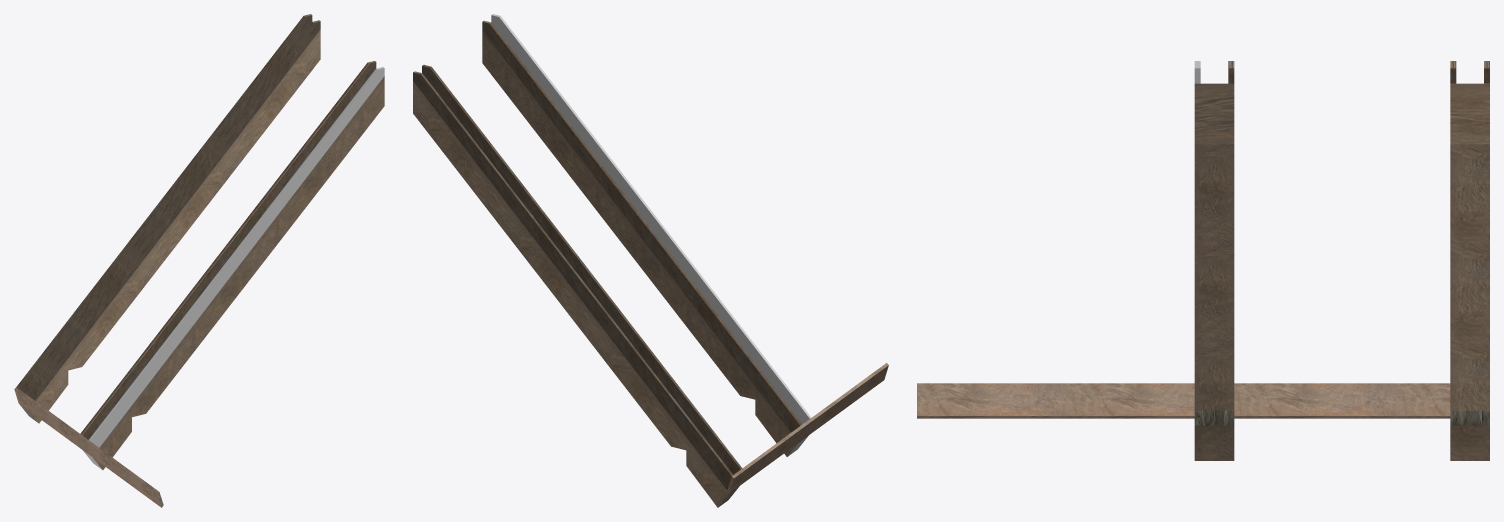
Rendered from RafterCapEndAMirror.fbx.
The picture shows the model from 3 angles, left to right: view 1: azimuth 30°, elevation 25°; view 2: azimuth 150°, elevation 25°; view 3: azimuth 270°, elevation 25°; orthographic projection. The views are drawn at different scales.
Parts seen in each view (by area): view 1: RafterCapEndAMirror; view 2: RafterCapEndAMirror; view 3: RafterCapEndAMirror.
Boxes of the visible parts, x1,y1,x2,y2 form: RafterCapEndAMirror: (14,14,384,507); RafterCapEndAMirror: (413,14,888,507); RafterCapEndAMirror: (917,61,1489,460).
Size of the model in its own units: 465 by 500 by 389.
